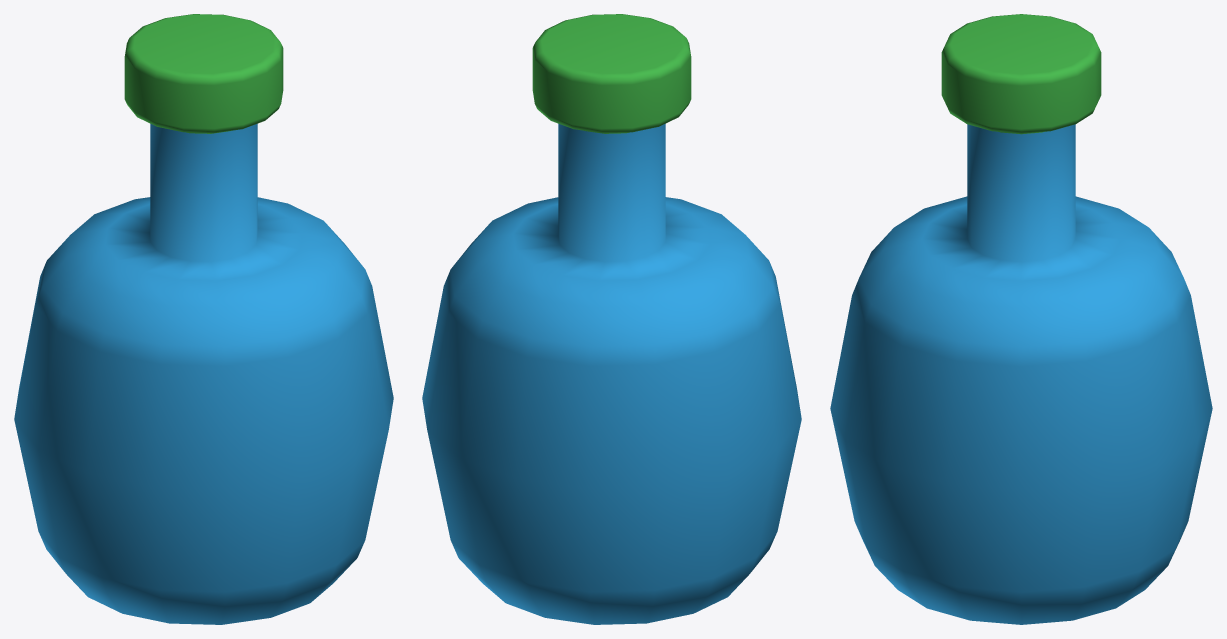
The model's file is TwoMPotionN4.fbx.
3 renders of one model, left to right at view 1: azimuth 30°, elevation 25°; view 2: azimuth 150°, elevation 25°; view 3: azimuth 270°, elevation 25°, orthographic.
Parts seen in each view (by area): view 1: PotionN4; view 2: PotionN4; view 3: PotionN4.
Boxes of the visible parts, box(x1,y1,x2,y2) form: PotionN4: box(14, 14, 393, 624); PotionN4: box(422, 14, 801, 624); PotionN4: box(830, 14, 1212, 624).
Size of the model in its own units: 0.1146 by 0.1769 by 0.1146.
